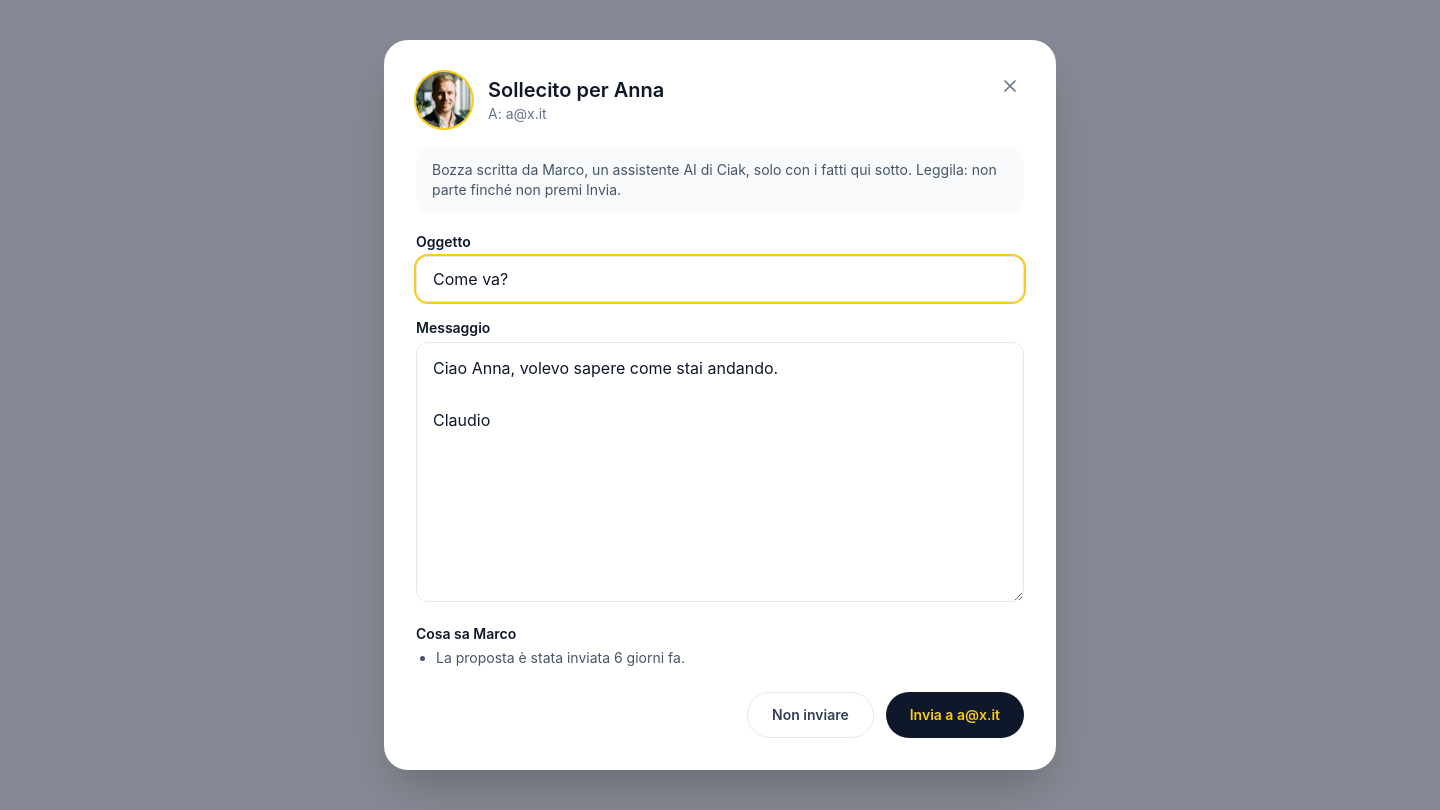
Test: un errore dell'invio si legge e il pannello resta aperto
Expected: the field showing "Come va?" is shown, x1=416 y1=256 x2=1024 y2=302
Click the button "Invia a a@x.it" at (955, 715), box x1=886 y1=692 x2=1024 y2=738
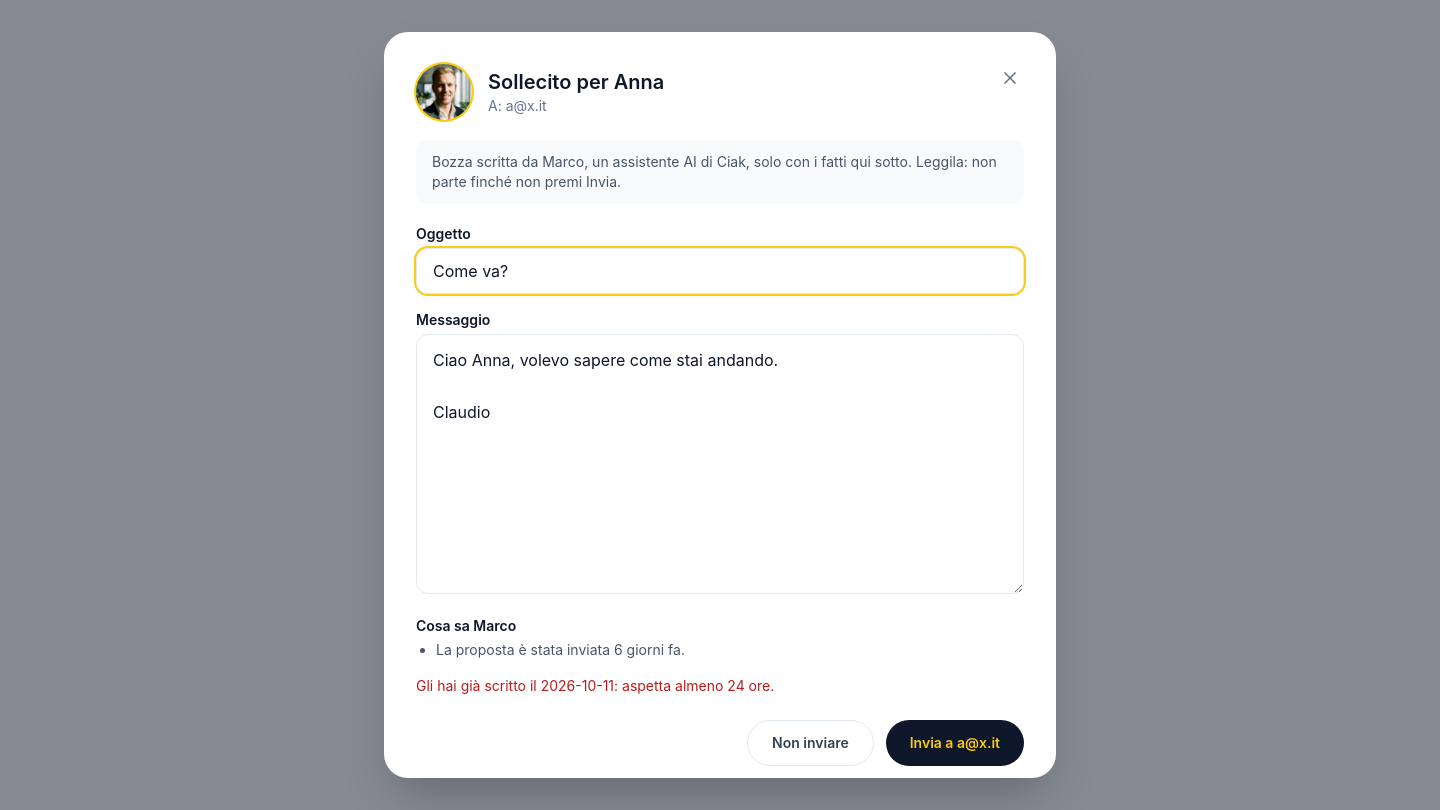
Expected: the text "Gli hai già scritto il 2026-10-11: aspetta almeno 24 ore." is shown, x1=416 y1=677 x2=774 y2=694
